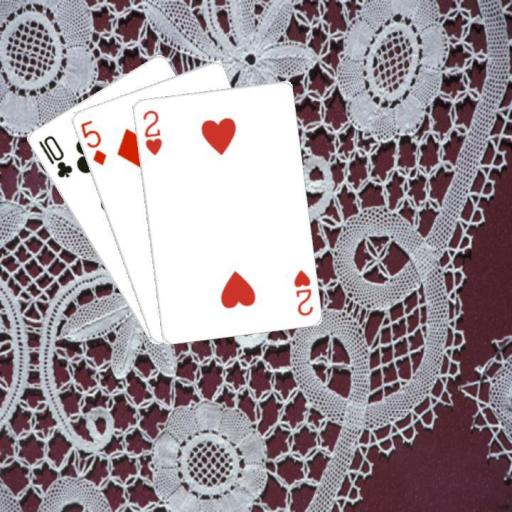10C: (35, 131, 74, 180)
2H: (139, 106, 164, 157), (290, 266, 314, 317)
5D: (77, 117, 107, 167)
